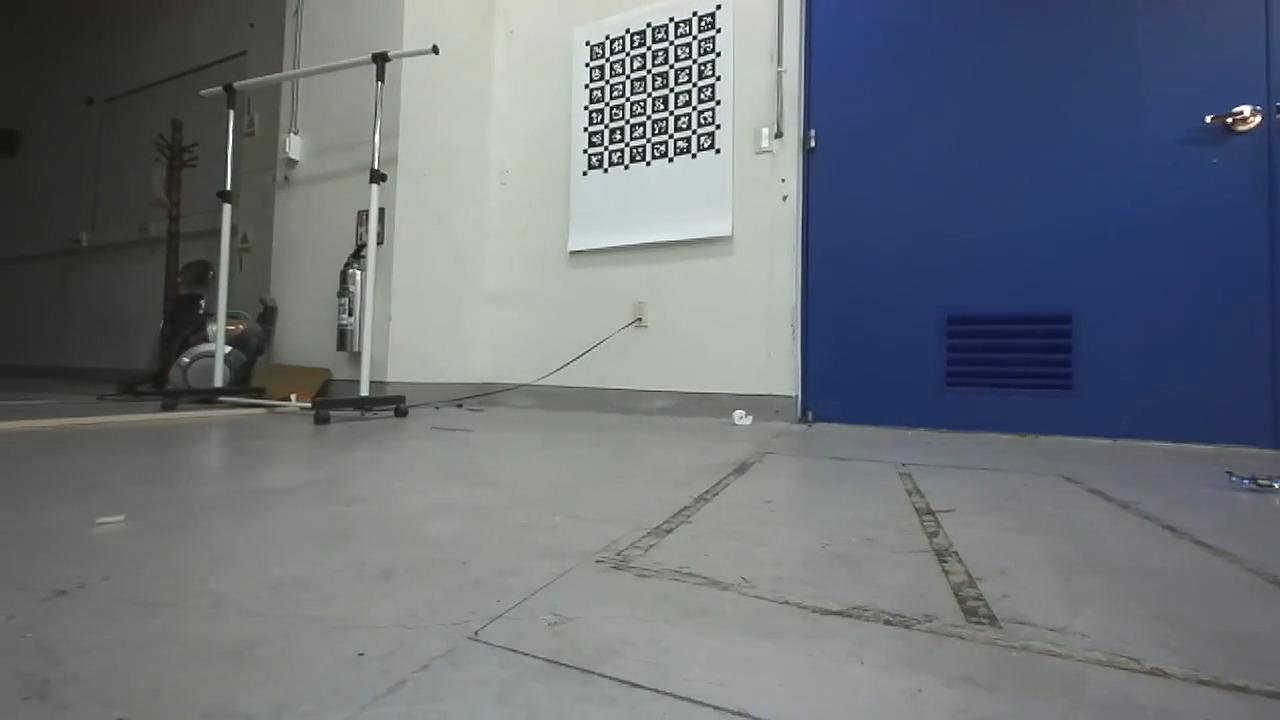crazyflie: (1217, 465, 1280, 498)
